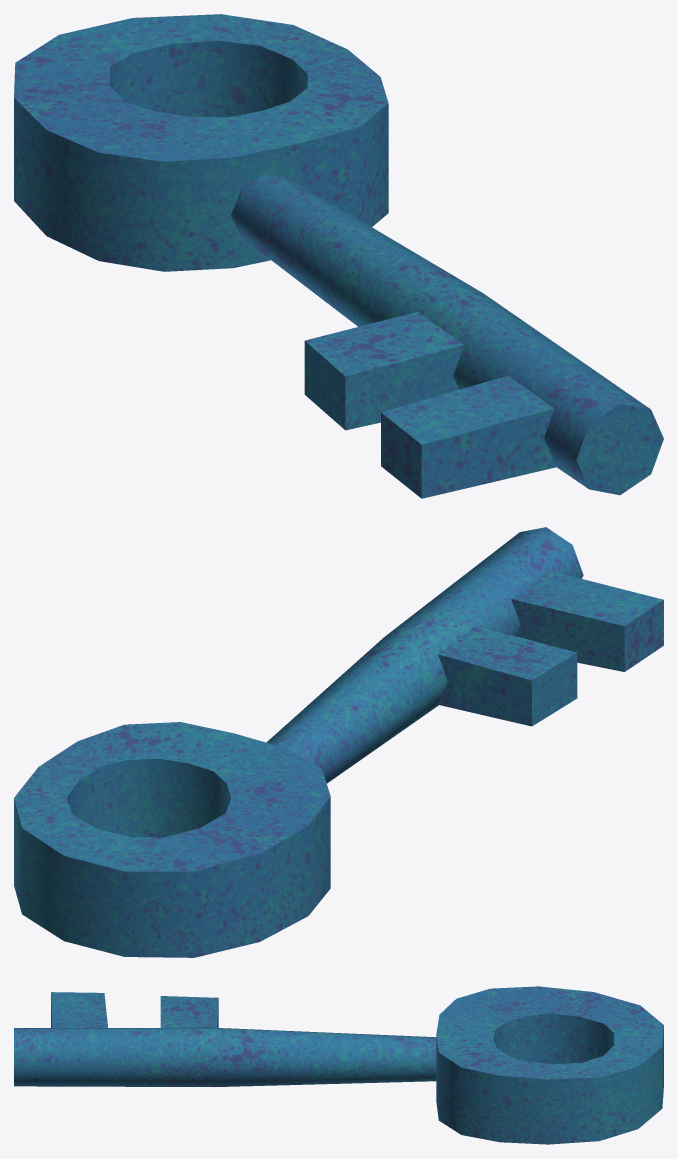
3 renders of one model, top to bottom at view 1: azimuth 30°, elevation 25°; view 2: azimuth 150°, elevation 25°; view 3: azimuth 270°, elevation 25°, orthographic. The views are drawn at different scales.
Parts seen in each view (by area): view 1: key; view 2: key; view 3: key.
Part boxes in pixels (x1=…): key: x1=14, y1=14, x2=663, y2=498; key: x1=14, y1=527, x2=663, y2=957; key: x1=14, y1=986, x2=663, y2=1144.
Size of the model in its own units: 0.0954 by 0.0313 by 0.2644.
Materials: 1 (1 with a texture image).
